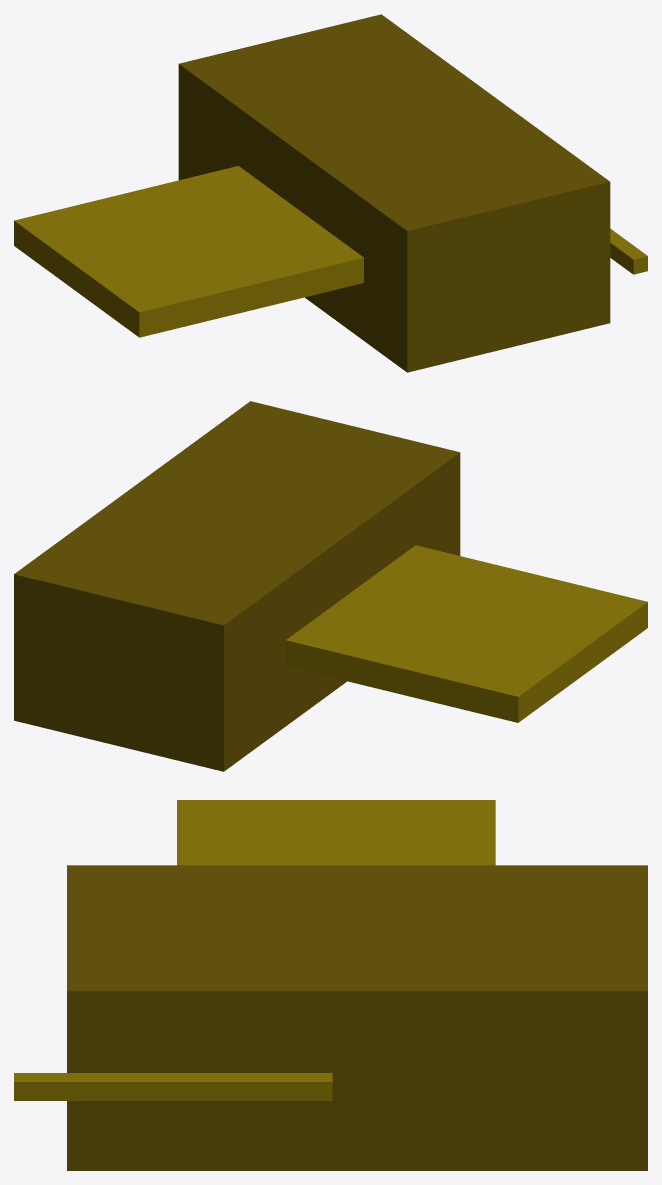
The model's file is prop-banner.glb.
The picture shows the model from 3 angles, top to bottom: view 1: azimuth 30°, elevation 25°; view 2: azimuth 150°, elevation 25°; view 3: azimuth 270°, elevation 25°; orthographic projection. The views are drawn at different scales.
Parts seen in each view (by area): view 1: samurai; view 2: samurai; view 3: samurai.
Part boxes in pixels (<box>): samurai: <box>14,14,647,372</box>; samurai: <box>14,401,647,771</box>; samurai: <box>14,800,647,1170</box>.
Bounding box in the file's own units: 0.92 × 0.28 × 0.895.
